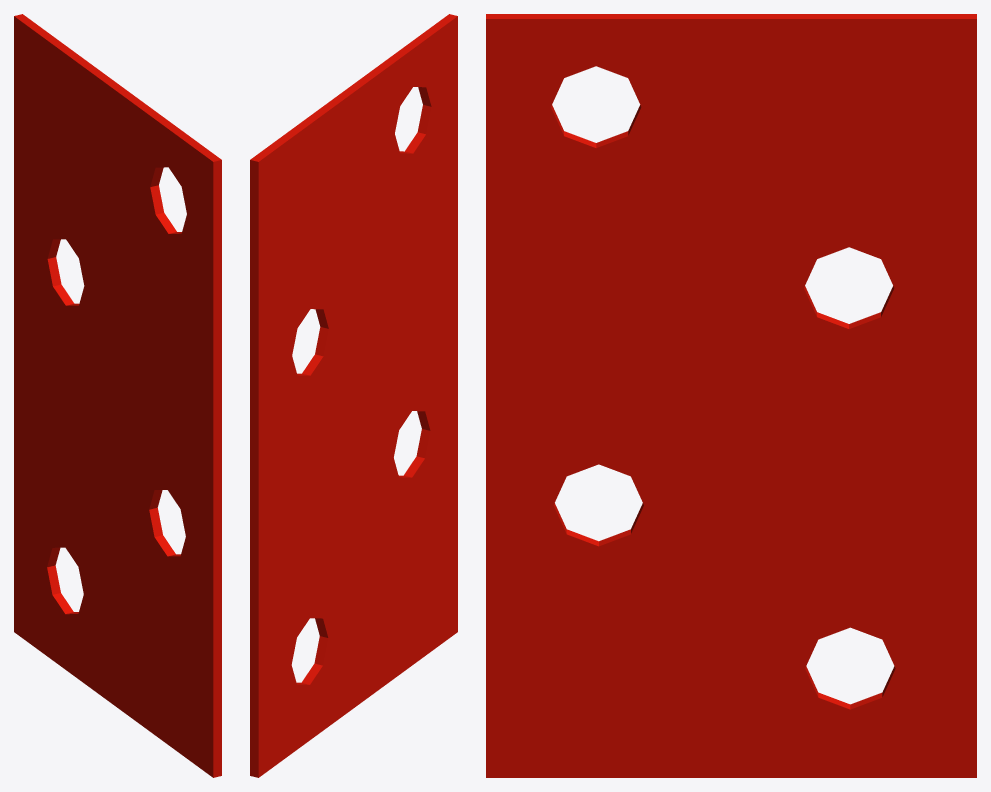
The model's file is board04.fbx.
3 views of the same model, side by side, from view 1: azimuth 30°, elevation 25°; view 2: azimuth 150°, elevation 25°; view 3: azimuth 270°, elevation 25° (orthographic). The views are drawn at different scales.
Visible parts, largest first — view 1: Plane.011; view 2: Plane.011; view 3: Plane.011.
Part boxes in pixels (x1,y1,x2,y2): Plane.011: [14, 14, 221, 777]; Plane.011: [250, 14, 457, 777]; Plane.011: [486, 14, 976, 777].
Size of the model in its own units: 9 by 617 by 362.
